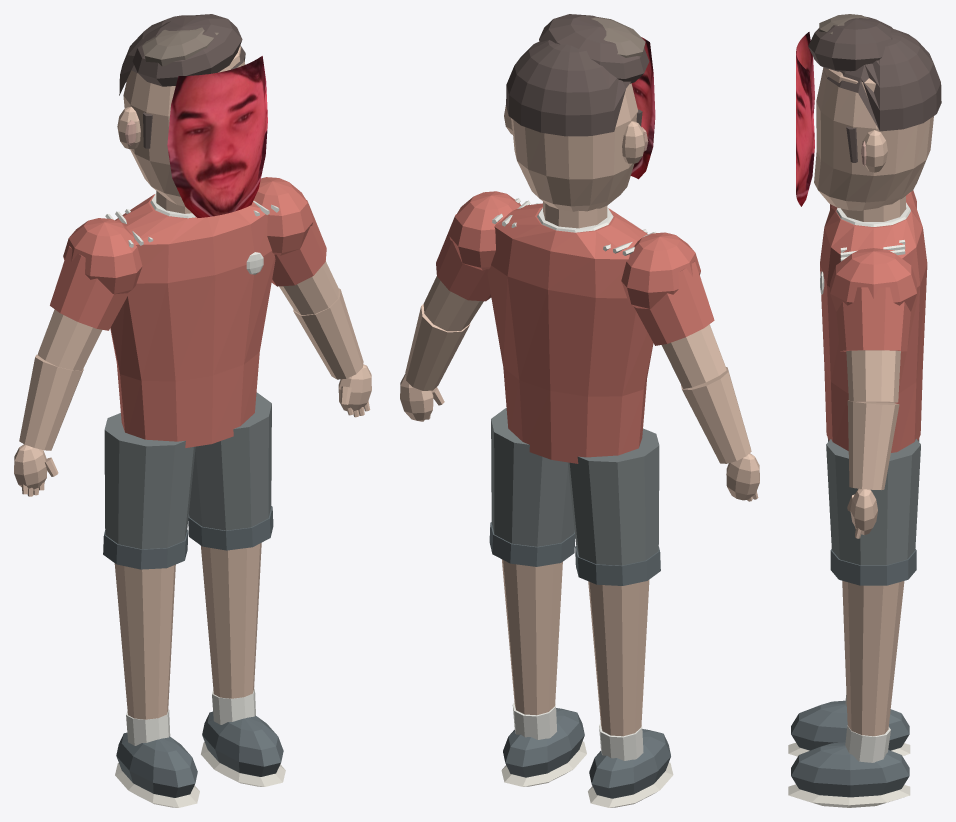
Rendered from personagem-01.glb.
The picture shows the model from 3 angles, left to right: view 1: azimuth 30°, elevation 25°; view 2: azimuth 150°, elevation 25°; view 3: azimuth 270°, elevation 25°; orthographic projection.
Visible parts, largest first — view 1: Tronco, Rosto fotografico, Coxa -1, Coxa 1, Perna -1, Perna 1, Rosto, Topete lateral, Ombro -1, Tenis 1, Tenis -1, Antebraco -1 (+16 smaller); view 2: Tronco, Coxa -1, Cabelo base, Rosto, Coxa 1, Perna -1, Perna 1, Ombro -1, Antebraco -1, Manga -1, Tenis -1, Tenis 1 (+18 smaller); view 3: Tronco, Rosto, Perna 1, Coxa 1, Cabelo base, Tenis 1, Manga 1, Antebraco 1, Ombro 1, Topete lateral, Rosto fotografico, Tenis -1 (+11 smaller).
Boxes of the visible parts, x1,y1,x2,y2 form: Tronco: (110, 194, 275, 447); Rosto fotografico: (167, 56, 267, 217); Coxa -1: (104, 413, 195, 549); Coxa 1: (189, 392, 271, 530); Perna -1: (114, 563, 175, 719); Perna 1: (201, 543, 261, 698); Rosto: (123, 46, 245, 206); Topete lateral: (132, 14, 242, 86); Ombro -1: (63, 218, 142, 294); Tenis 1: (202, 711, 283, 776); Tenis -1: (116, 732, 197, 797); Antebraco -1: (19, 354, 83, 450); Tronco: (487, 203, 653, 463); Coxa -1: (567, 428, 659, 565); Cabelo base: (506, 40, 630, 136); Rosto: (511, 83, 638, 211); Coxa 1: (491, 408, 574, 546); Perna -1: (588, 580, 649, 736); Perna 1: (502, 559, 562, 715); Ombro -1: (621, 232, 700, 308); Antebraco -1: (681, 367, 751, 463); Manga -1: (634, 260, 714, 345); Tenis -1: (589, 729, 670, 798); Tenis 1: (503, 708, 584, 777); Tronco: (820, 199, 927, 452); Rosto: (814, 67, 933, 210); Perna 1: (842, 581, 904, 736); Coxa 1: (826, 439, 920, 565); Cabelo base: (826, 27, 941, 131); Tenis 1: (791, 742, 909, 797); Manga 1: (836, 287, 910, 351); Antebraco 1: (847, 400, 899, 489); Ombro 1: (830, 248, 916, 311); Topete lateral: (808, 16, 892, 71); Rosto fotografico: (796, 32, 814, 206); Tenis -1: (791, 700, 909, 750).
Bounding box in the file's own units: 0.9169 × 1.86 × 0.3415.
10 materials, 1 textured.
